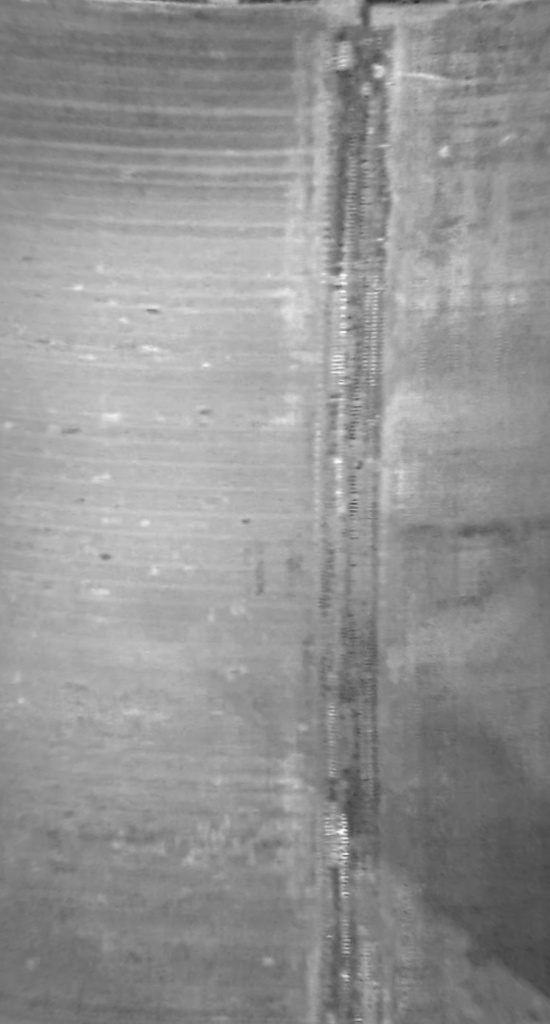splice: (304, 1, 401, 1020)
